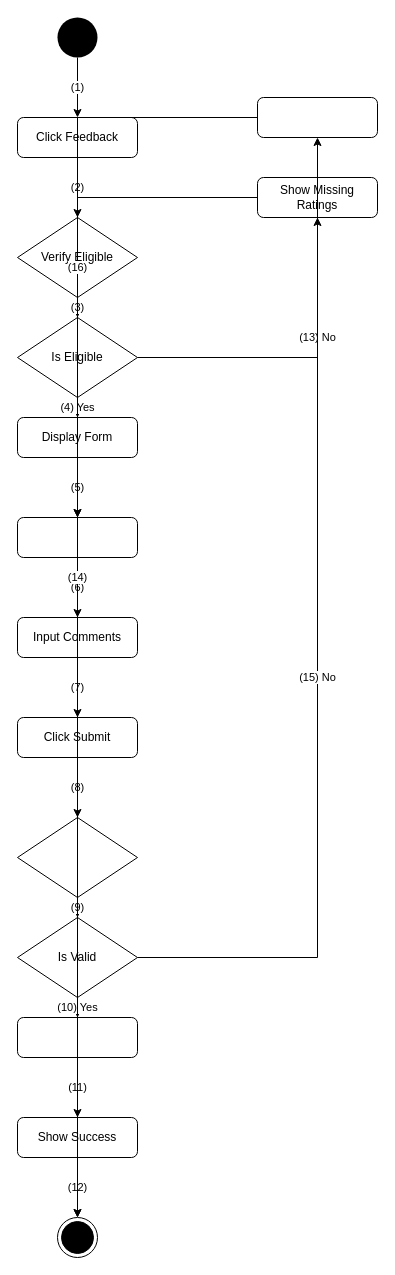
The diagram is 395 pixels wide and 1275 high, and some of its shapes have lost their labels. Each missing label, with the box of its shape:
Save To DB: (16, 1016, 138, 1058)
Select Ratings: (16, 516, 138, 558)
Show Ineligible Msg: (256, 96, 378, 138)
Validate Ratings: (16, 816, 138, 898)
